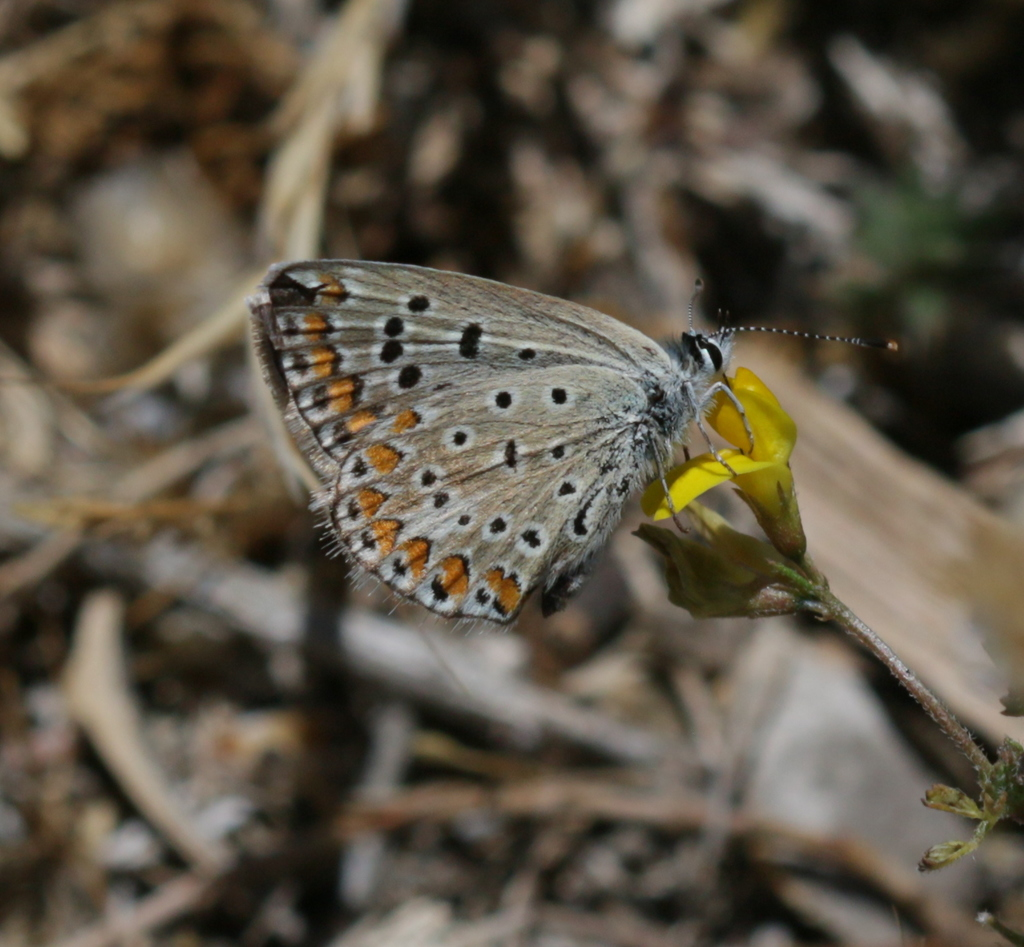Butterfly: (238, 234, 913, 670)
